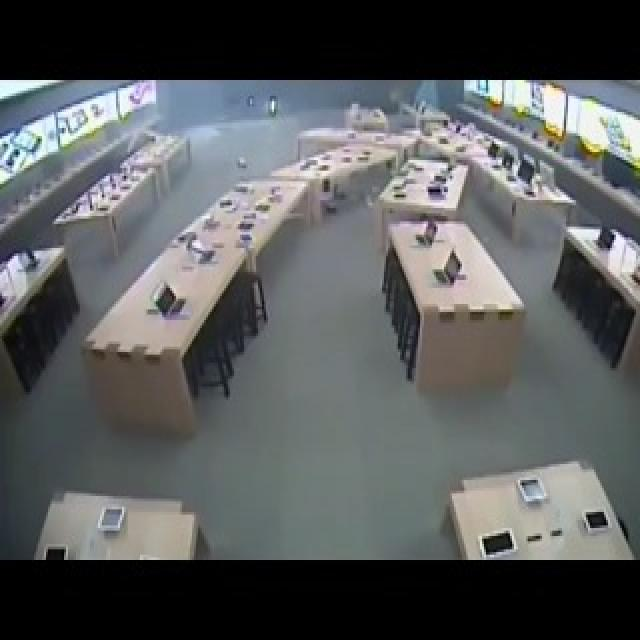burglary: (233, 83, 293, 123)
